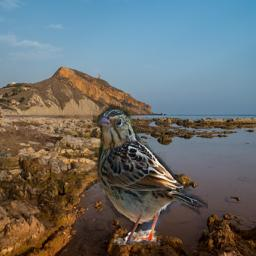Sparrow: (93, 103, 208, 245)
